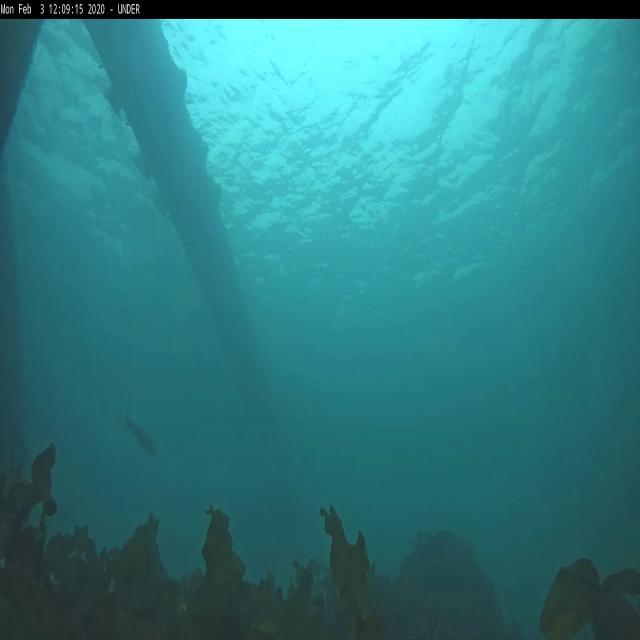fish: (124, 410, 158, 458)
